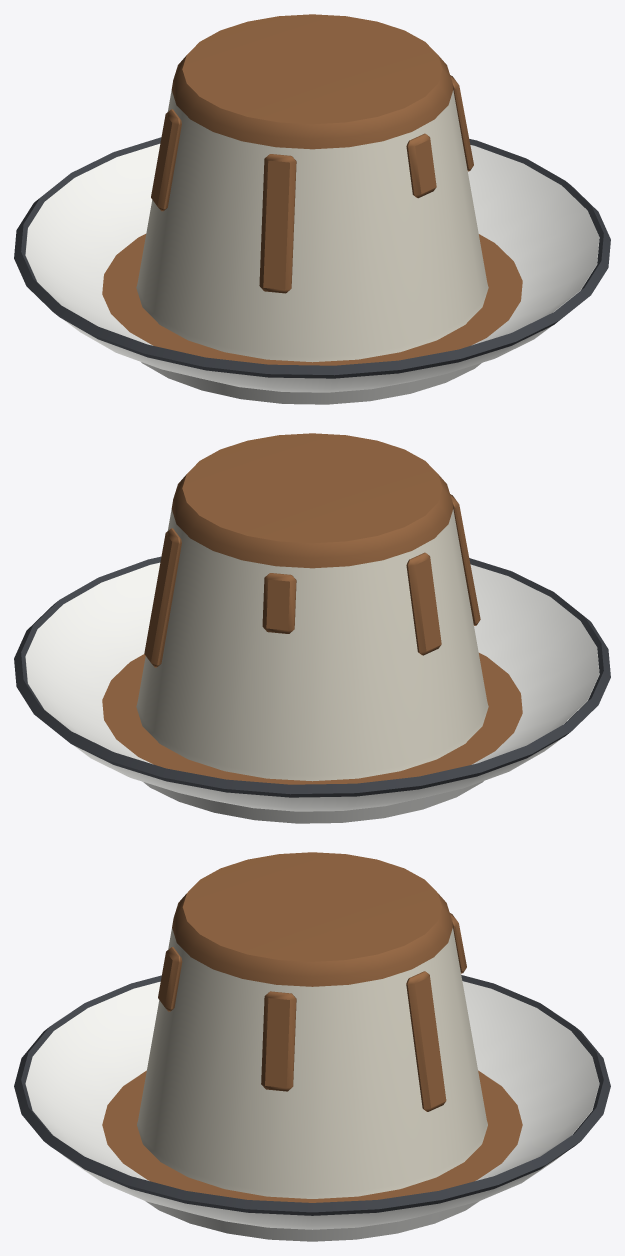
File: cook_custard.glb
3 renders of one model, top to bottom at view 1: azimuth 30°, elevation 25°; view 2: azimuth 150°, elevation 25°; view 3: azimuth 270°, elevation 25°, orthographic.
Parts seen in each view (by area): view 1: body; view 2: body; view 3: body.
Part boxes in pixels (bbox=[...]): body: bbox=[14, 14, 610, 404]; body: bbox=[14, 433, 610, 823]; body: bbox=[14, 852, 610, 1241].
Bounding box in the file's own units: 0.0589 × 0.0276 × 0.0589.
